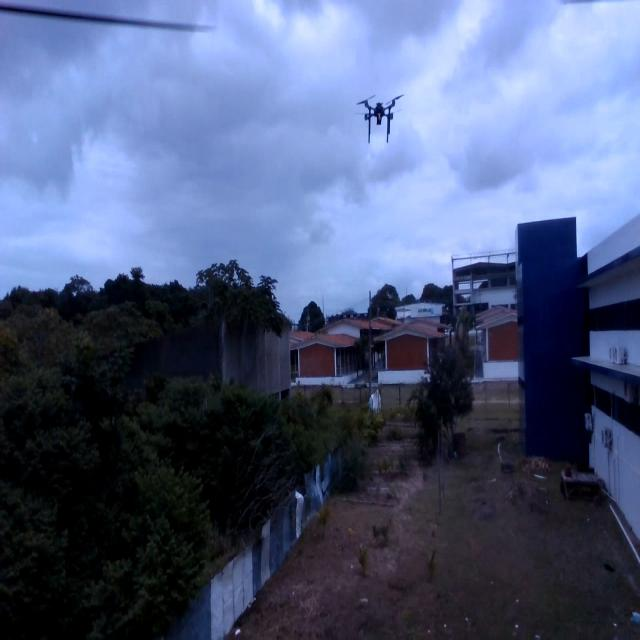-uav-: (354, 83, 408, 153)
